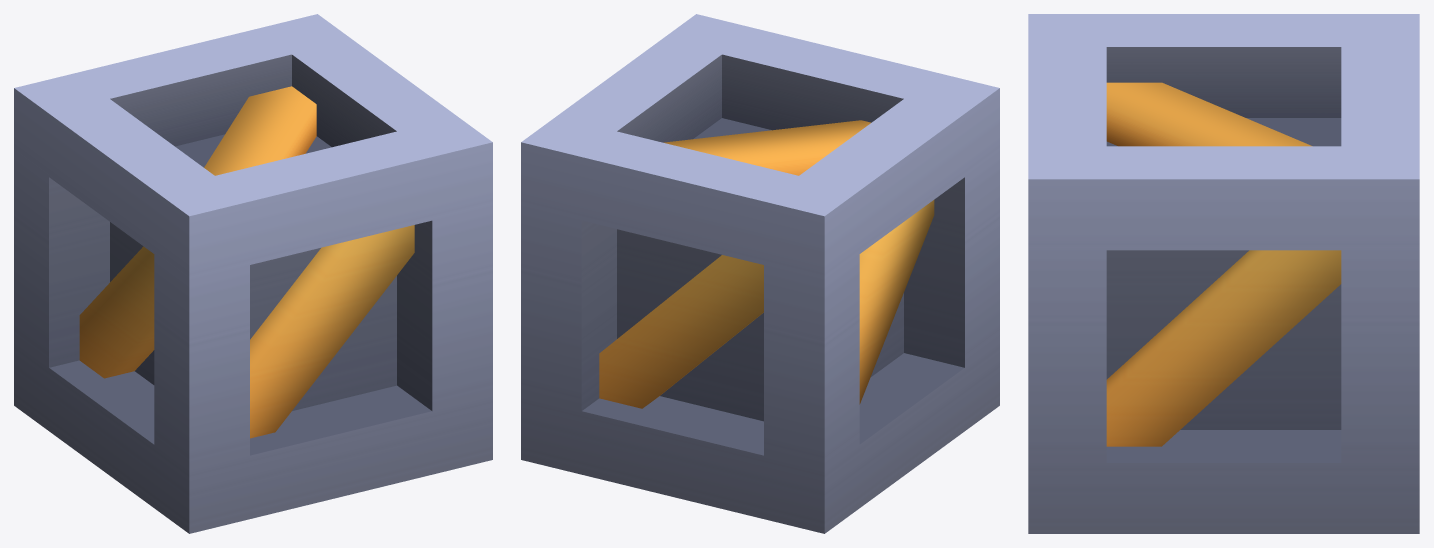
File: crate.fbx
The picture shows the model from 3 angles, left to right: view 1: azimuth 30°, elevation 25°; view 2: azimuth 150°, elevation 25°; view 3: azimuth 270°, elevation 25°; orthographic projection. The views are drawn at different scales.
Parts seen in each view (by area): view 1: crate; view 2: crate; view 3: crate.
Boxes of the visible parts, x1,y1,x2,y2 form: crate: (14,14,492,533); crate: (521,14,999,533); crate: (1028,14,1419,533).
Size of the model in its own units: 50 by 50 by 50.
